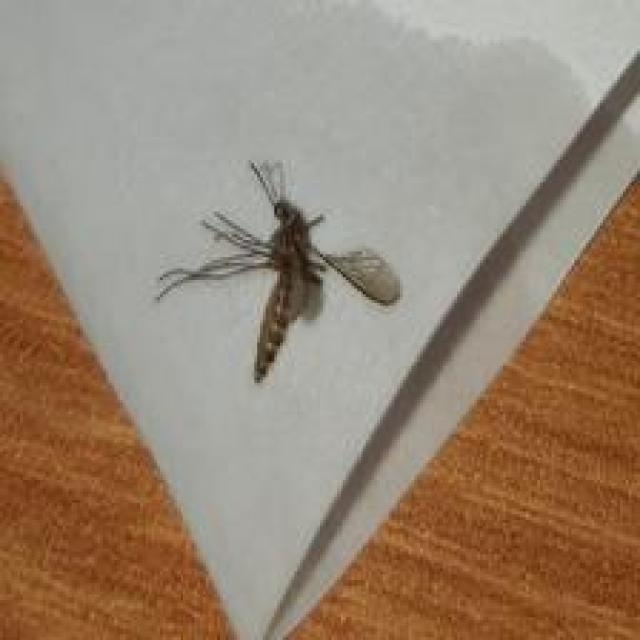Culex: (153, 157, 401, 383)
